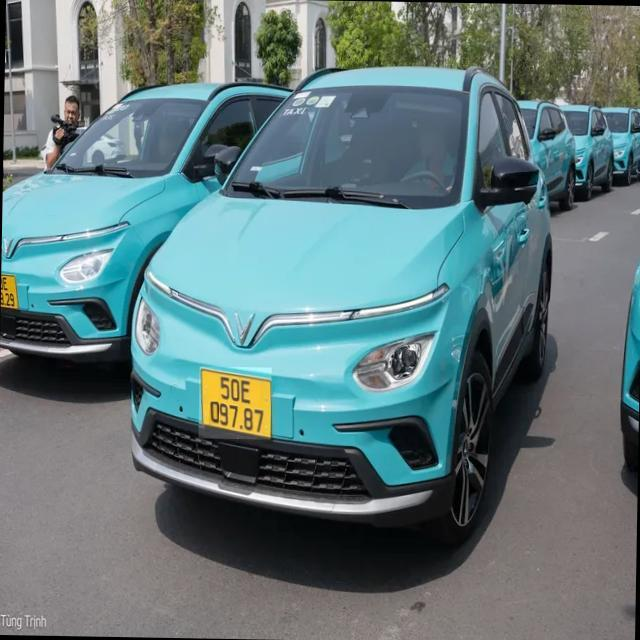car: (126, 61, 561, 546), (0, 82, 284, 368), (522, 101, 634, 212)
plate: (193, 366, 278, 440), (0, 270, 22, 317)
